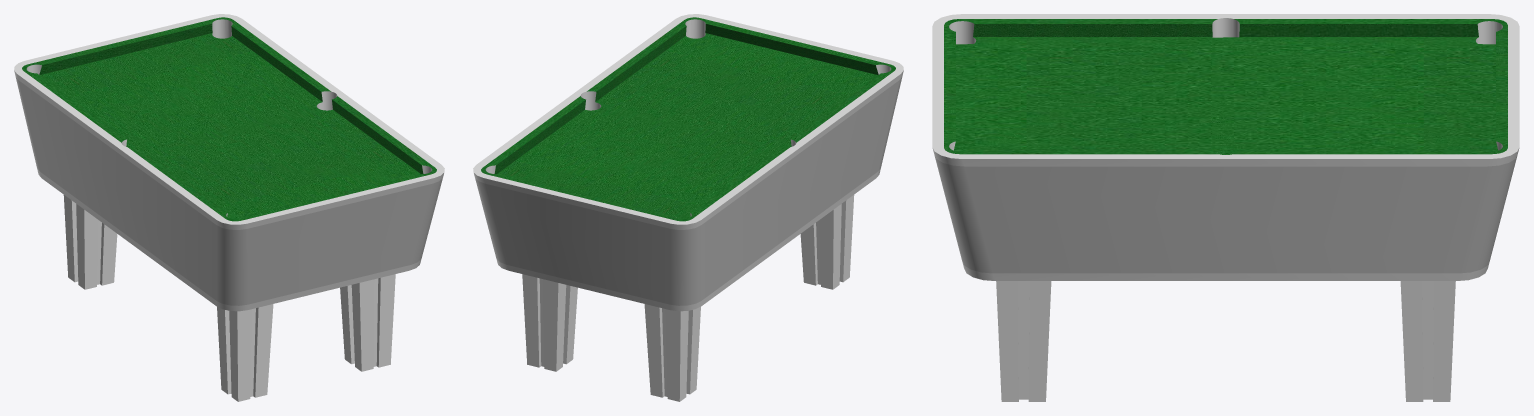
File: Biliardo.fbx
3 views of the same model, side by side, from view 1: azimuth 30°, elevation 25°; view 2: azimuth 150°, elevation 25°; view 3: azimuth 270°, elevation 25° (orthographic). The views are drawn at different scales.
Parts seen in each view (by area): view 1: Biliardo; view 2: Biliardo; view 3: Biliardo.
Part boxes in pixels (x1=…): Biliardo: x1=14, y1=14, x2=444, y2=401; Biliardo: x1=473, y1=14, x2=903, y2=401; Biliardo: x1=932, y1=14, x2=1519, y2=401.
Size of the model in its own units: 1.52 by 1.3 by 2.6.
